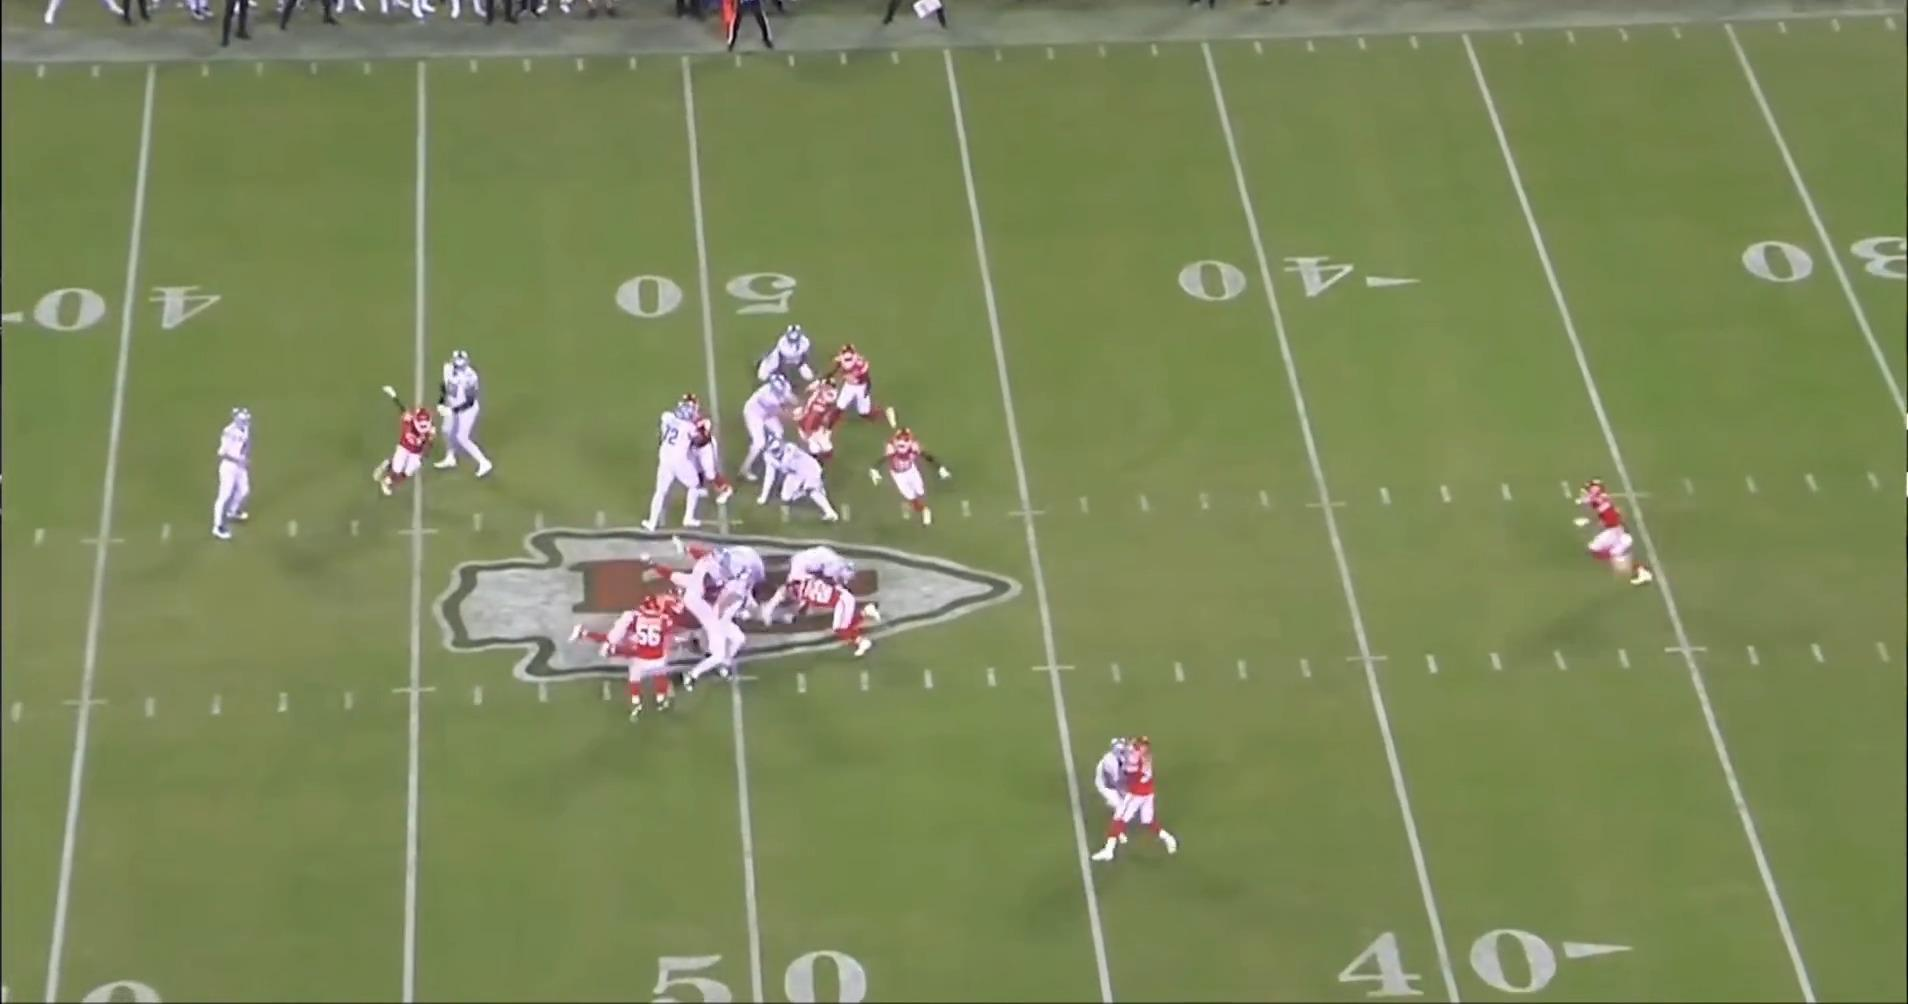defense: (1085, 732, 1177, 868), (1571, 475, 1660, 594), (871, 425, 955, 529), (610, 594, 677, 722), (668, 394, 741, 511), (812, 550, 884, 662), (822, 344, 903, 426), (379, 402, 446, 496), (576, 598, 674, 661), (800, 374, 852, 460), (640, 535, 705, 584)
oline: (637, 398, 714, 537), (434, 345, 502, 479), (735, 366, 800, 487), (753, 434, 836, 528), (682, 551, 731, 624)
qb: (201, 409, 256, 549)
ref: (720, 0, 788, 56)
skill: (688, 570, 757, 693), (763, 542, 860, 626), (758, 321, 820, 386), (1092, 727, 1130, 814)
